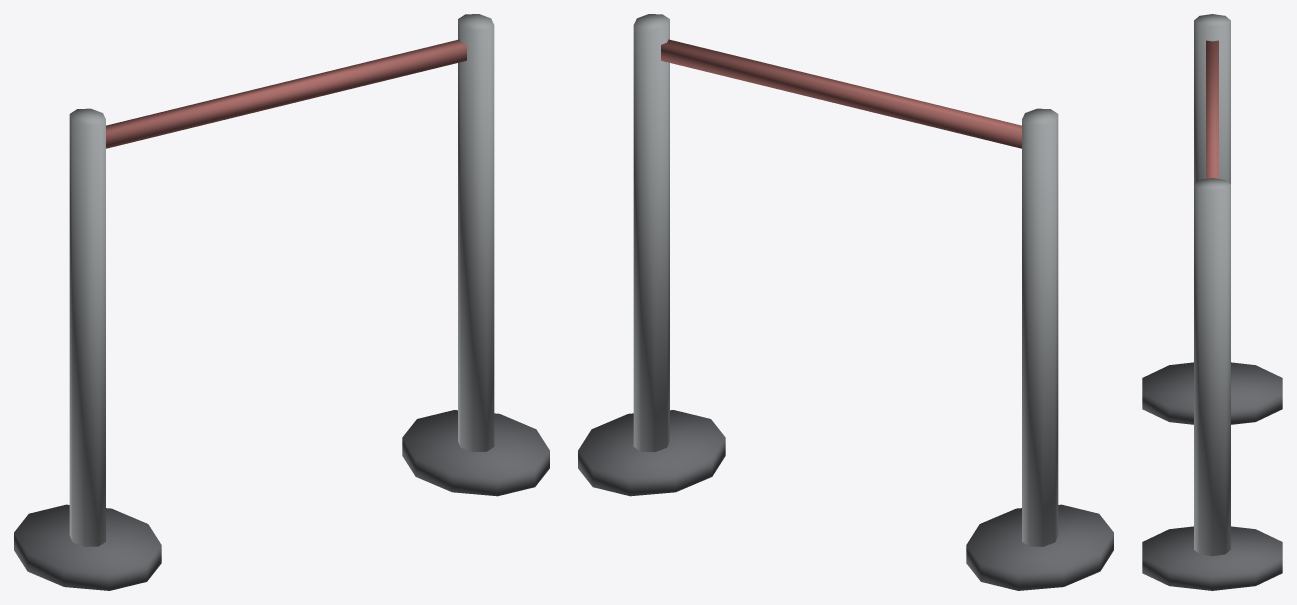
File: queue_stanchion__deep.glb
3 renders of one model, left to right at view 1: azimuth 30°, elevation 25°; view 2: azimuth 150°, elevation 25°; view 3: azimuth 270°, elevation 25°, orthographic. The views are drawn at different scales.
Parts seen in each view (by area): view 1: world; view 2: world; view 3: world.
Part boxes in pixels (x1,y1,x2,y2): world: (14, 14, 549, 590); world: (578, 14, 1113, 590); world: (1142, 14, 1282, 590).
Bounding box in the file's own units: 1.18 × 0.975 × 0.3249.
